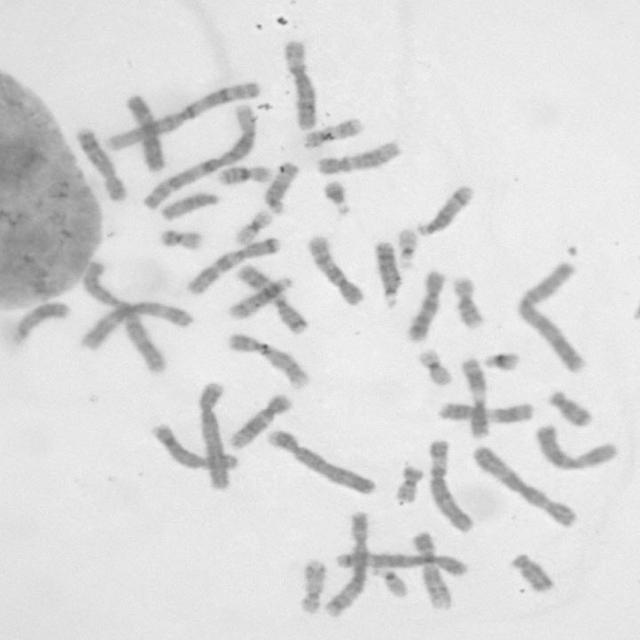A1: (142, 102, 257, 212), (102, 80, 260, 153)
A2: (82, 260, 170, 373), (515, 260, 592, 373)
A3: (470, 445, 580, 531), (80, 300, 196, 352)
B4: (267, 428, 378, 498), (194, 380, 233, 493)
B5: (324, 510, 371, 617), (334, 550, 469, 577)
C10: (307, 234, 365, 308), (403, 269, 447, 344)
C11: (461, 358, 494, 438), (437, 399, 535, 425)
C12: (229, 392, 293, 452), (316, 138, 406, 176)
C6: (424, 438, 478, 535), (282, 37, 321, 132)
C7: (186, 235, 282, 298), (237, 262, 309, 334)
C8: (73, 124, 129, 205), (152, 422, 240, 471)
C9: (227, 331, 314, 392), (411, 530, 455, 612)
D13: (10, 299, 74, 346), (374, 238, 405, 310)
D14: (417, 183, 477, 239), (227, 276, 297, 321)
D15: (261, 161, 303, 216), (158, 191, 221, 224)
E16: (450, 274, 485, 330), (214, 164, 274, 188)
E17: (302, 118, 364, 149), (298, 556, 327, 615)
E18: (548, 388, 594, 428), (510, 552, 555, 592)
F19: (416, 346, 456, 388), (233, 207, 275, 247)
F20: (392, 464, 426, 505), (160, 229, 204, 251)
G21: (324, 180, 354, 218), (484, 352, 521, 372)
G22: (371, 566, 408, 600), (397, 226, 419, 266)
X: (536, 422, 620, 472), (125, 93, 168, 174)
